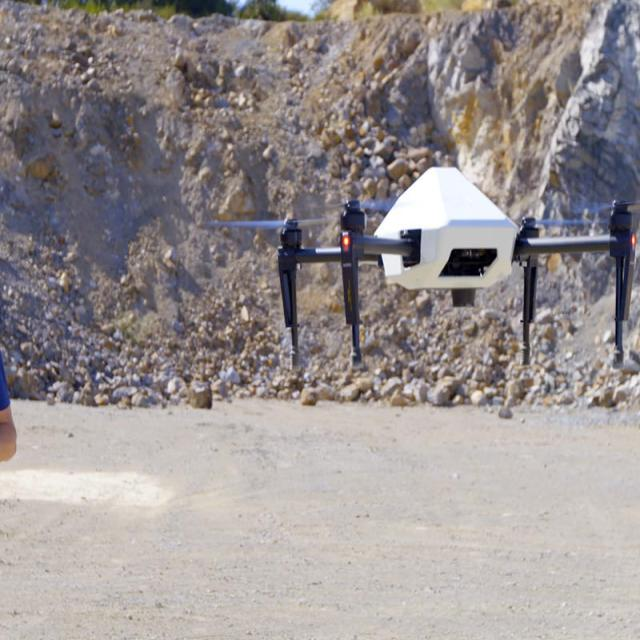drone: (209, 169, 640, 389)
